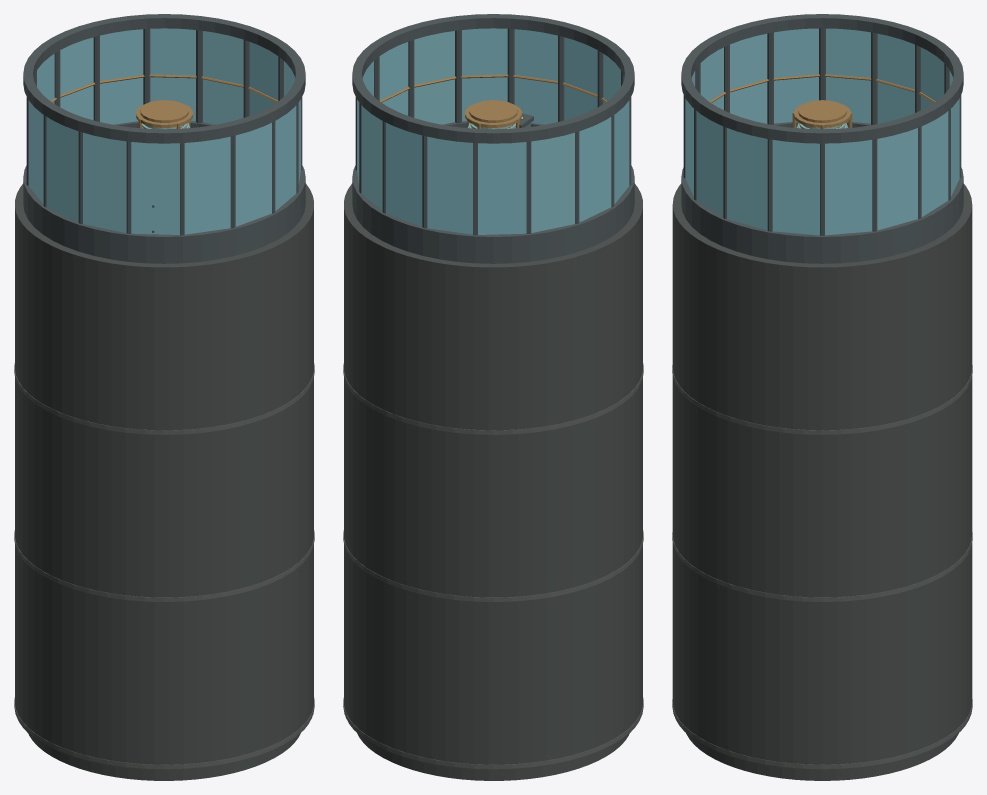
File: lighthouse_interior_v01.glb
3 renders of one model, left to right at view 1: azimuth 30°, elevation 25°; view 2: azimuth 150°, elevation 25°; view 3: azimuth 270°, elevation 25°, orthographic.
Parts seen in each view (by area): view 1: Wall_02_05, Wall_00_05, Wall_01_05, Wall_02_04, Wall_00_04, Wall_01_04, Wall_02_06, Wall_00_06, Wall_01_06, Wall_02_03, Wall_01_03, Wall_00_03 (+30 smaller); view 2: Wall_02_10, Wall_00_10, Wall_01_10, Wall_02_11, Wall_00_11, Wall_01_11, Wall_02_09, Wall_00_09, Wall_01_09, Wall_02_12, Wall_01_12, Wall_00_12 (+29 smaller); view 3: Wall_02_00, Wall_02_15, Wall_01_00, Wall_01_15, Wall_00_15, Wall_00_00, Wall_02_01, Wall_02_14, Wall_01_14, Wall_01_01, Wall_00_01, Wall_00_14 (+30 smaller).
Part boxes in pixels (box(x1,y1,x2,y2)): Wall_02_05: box(125, 262, 183, 435); Wall_00_05: box(125, 600, 183, 770); Wall_01_05: box(125, 433, 183, 602); Wall_02_04: box(183, 256, 239, 435); Wall_00_04: box(184, 595, 239, 769); Wall_01_04: box(184, 426, 239, 602); Wall_02_06: box(73, 251, 127, 433); Wall_00_06: box(73, 589, 125, 767); Wall_01_06: box(73, 422, 125, 599); Wall_02_03: box(235, 240, 283, 426); Wall_01_03: box(239, 410, 283, 594); Wall_00_03: box(239, 578, 283, 761); Wall_02_10: box(474, 262, 532, 435); Wall_00_10: box(474, 600, 532, 770); Wall_01_10: box(474, 433, 532, 602); Wall_02_11: box(418, 256, 474, 435); Wall_00_11: box(418, 595, 473, 769); Wall_01_11: box(418, 427, 473, 602); Wall_02_09: box(530, 251, 584, 433); Wall_00_09: box(532, 589, 584, 767); Wall_01_09: box(532, 422, 584, 599); Wall_02_12: box(374, 240, 422, 426); Wall_01_12: box(374, 410, 418, 594); Wall_00_12: box(374, 578, 418, 761); Wall_02_00: box(765, 259, 822, 435); Wall_02_15: box(822, 259, 879, 435); Wall_01_00: box(765, 430, 822, 602); Wall_01_15: box(822, 430, 879, 602); Wall_00_15: box(822, 598, 879, 770); Wall_00_00: box(765, 598, 822, 770); Wall_02_01: box(716, 246, 767, 430); Wall_02_14: box(877, 246, 928, 430); Wall_01_14: box(879, 417, 928, 598); Wall_01_01: box(716, 416, 765, 598); Wall_00_01: box(716, 585, 765, 765); Wall_00_14: box(879, 585, 928, 765).
Size of the model in its own units: 5.28 by 12.57 by 5.28.
